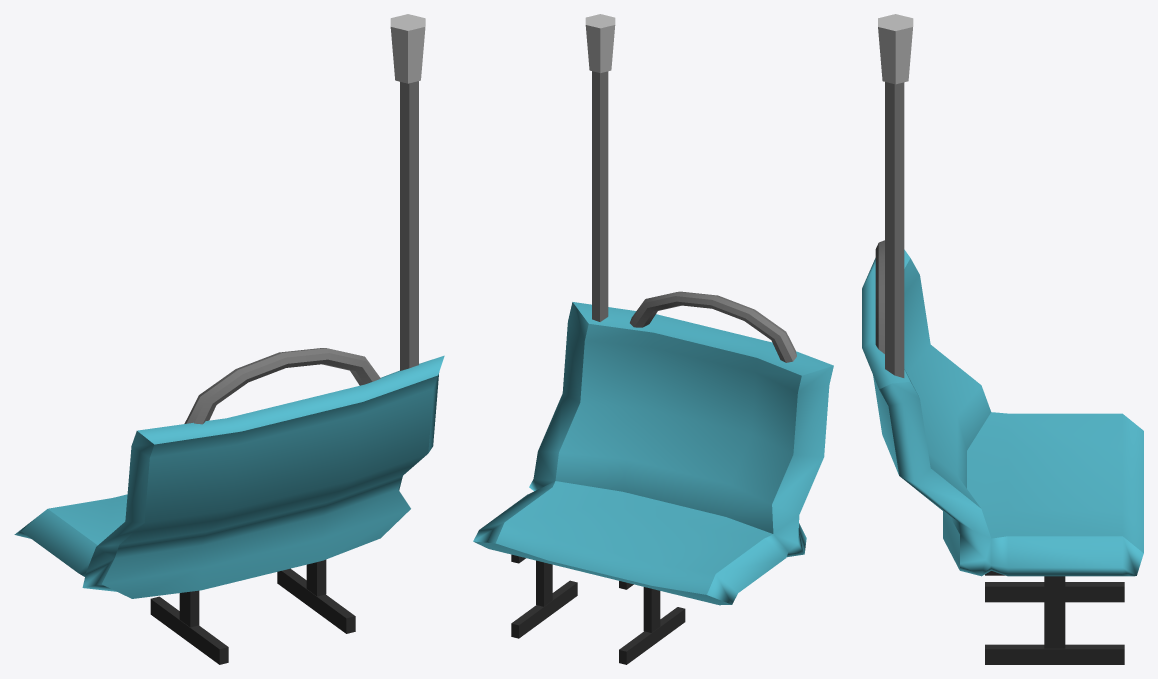
File: BUS ASSETS_LONG SEAT.fbx
3 renders of one model, left to right at view 1: azimuth 30°, elevation 25°; view 2: azimuth 150°, elevation 25°; view 3: azimuth 270°, elevation 25°, orthographic. The views are drawn at different scales.
Visible parts, largest first — view 1: Long_Seat, Pole, Rail, Brace, pCube11, pCube6, pCube9, pCube8; view 2: Long_Seat, Pole, Rail, Brace, pCube6, pCube11, pCube9, pCube8; view 3: Long_Seat, Pole, pCube6, pCube11, Brace, pCube8, Rail.
Boxes of the visible parts, x1,y1,x2,y2 form: Long_Seat: (14, 355, 444, 598); Pole: (400, 81, 418, 370); Rail: (184, 348, 380, 424); Brace: (390, 14, 425, 83); pCube11: (150, 596, 228, 664); pCube6: (277, 568, 355, 633); pCube9: (179, 590, 199, 627); pCube8: (306, 559, 326, 596); Long_Seat: (473, 302, 833, 605); Pole: (592, 71, 608, 321); Rail: (630, 291, 796, 362); Brace: (585, 14, 615, 72); pCube6: (511, 580, 577, 638); pCube11: (619, 607, 685, 664); pCube9: (643, 587, 660, 632); pCube8: (536, 560, 552, 606); Long_Seat: (862, 249, 1143, 576); Pole: (885, 82, 904, 377); pCube6: (985, 644, 1124, 664); pCube11: (985, 582, 1124, 602); Brace: (878, 14, 913, 84); pCube8: (1044, 576, 1065, 648); Rail: (875, 240, 884, 353).
Size of the model in its own units: 18.07 by 34.03 by 13.44.
